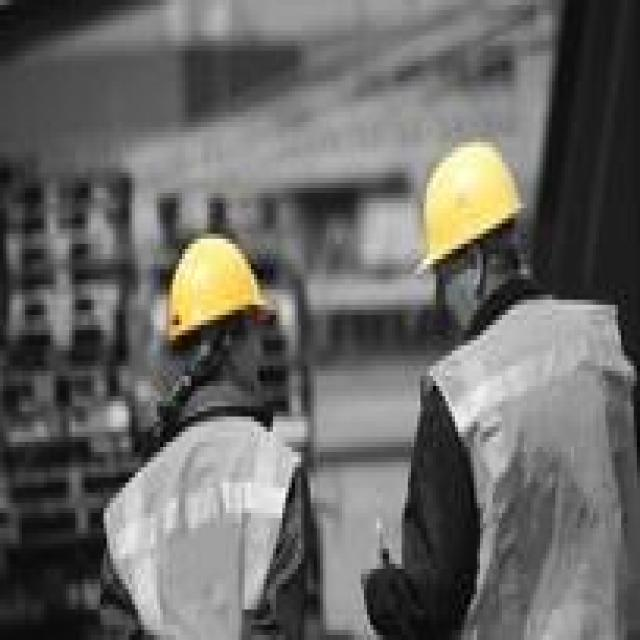Reflective-Jacket: (405, 294, 637, 640), (94, 401, 311, 640)
Safety-Helmet: (404, 132, 536, 285), (154, 224, 282, 360)
